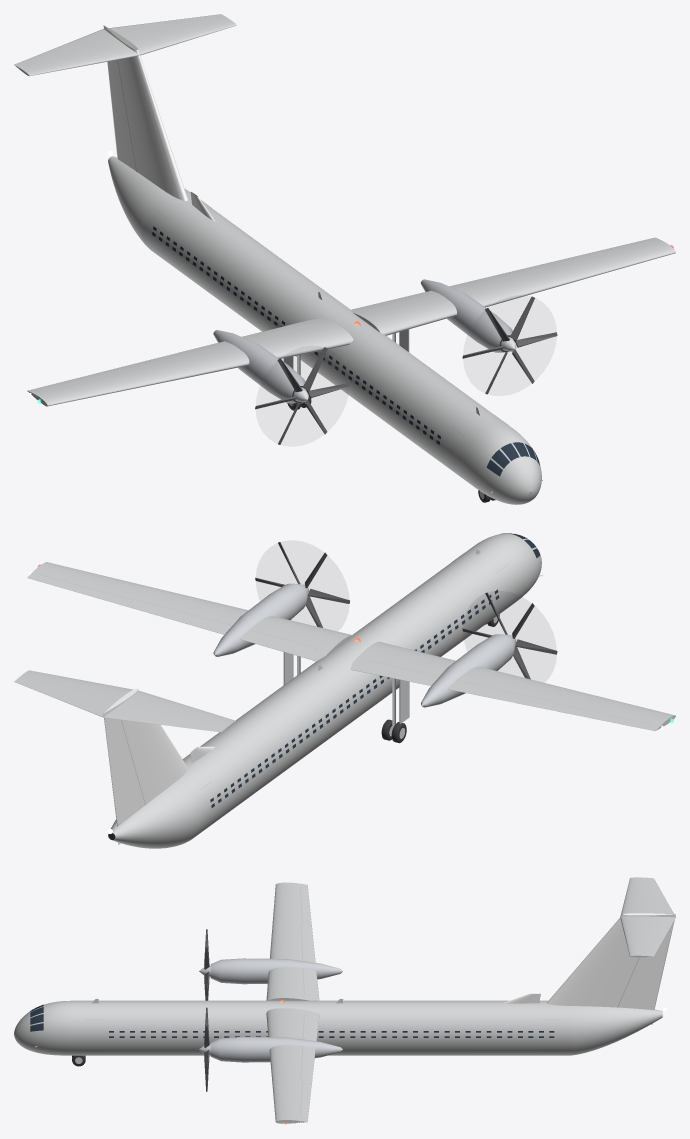
The picture shows the model from 3 angles, top to bottom: view 1: azimuth 30°, elevation 25°; view 2: azimuth 150°, elevation 25°; view 3: azimuth 270°, elevation 25°; orthographic projection. The views are drawn at different scales.
Parts seen in each view (by area): view 1: airframe, prop (×2); view 2: airframe, prop (×2), gear; view 3: airframe.
Boxes of the visible parts, x1,y1,x2,y2 form: airframe: [14, 14, 675, 504]; prop (×2): [255, 296, 557, 444]; airframe: [14, 533, 675, 848]; prop (×2): [255, 542, 557, 679]; gear: [283, 614, 499, 743]; airframe: [14, 877, 675, 1124].
Bounding box in the file's own units: 28.72 × 8.36 × 33.47.
